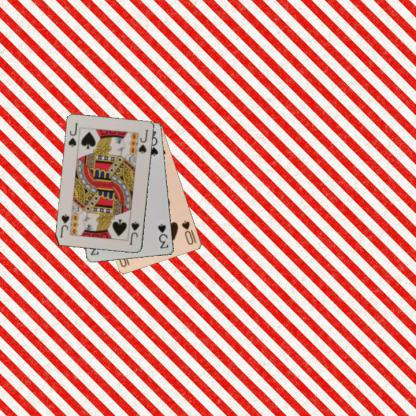10s: (179, 218, 198, 246)
3s: (156, 221, 170, 250)
Js: (127, 219, 141, 246), (66, 121, 79, 148)
